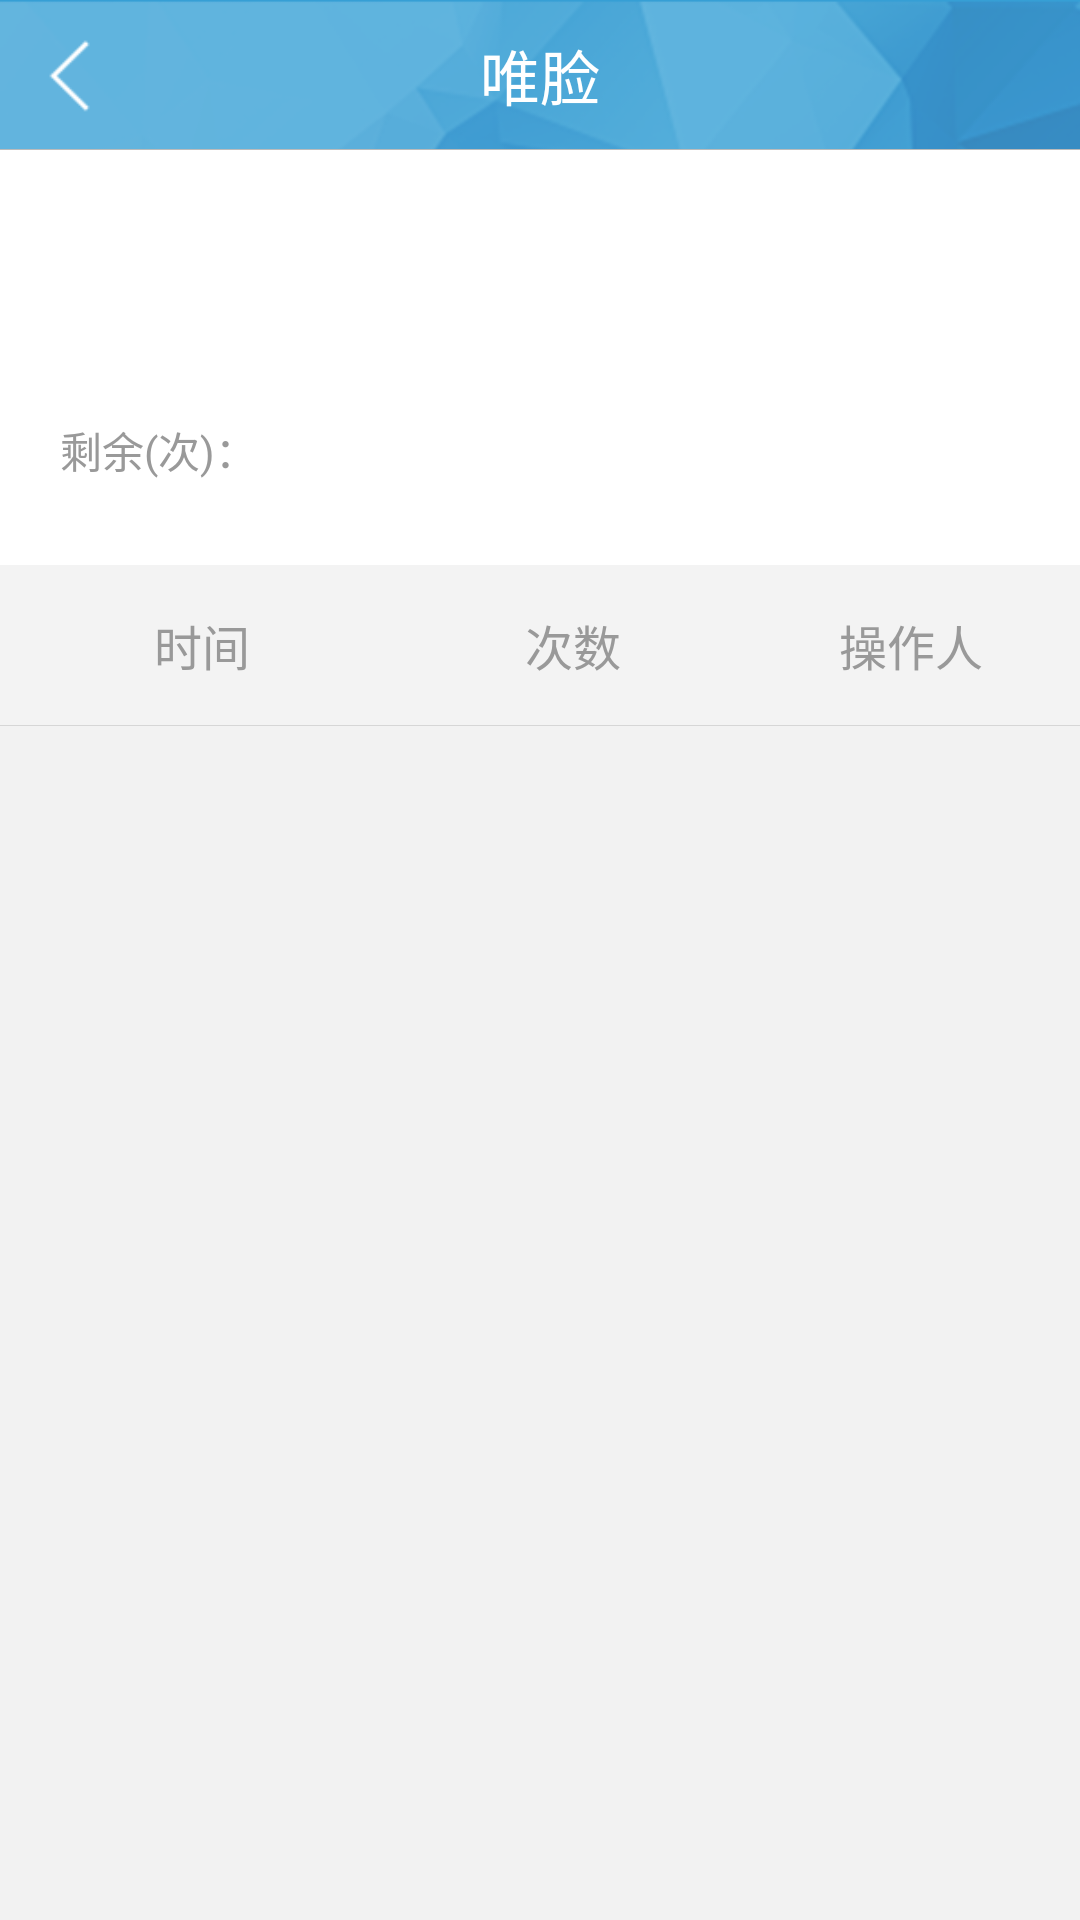

Where icons sit on this 1080×1920 app screen, as bbox(x1, y1, x2, y2):
back: bbox(50, 41, 89, 111)
